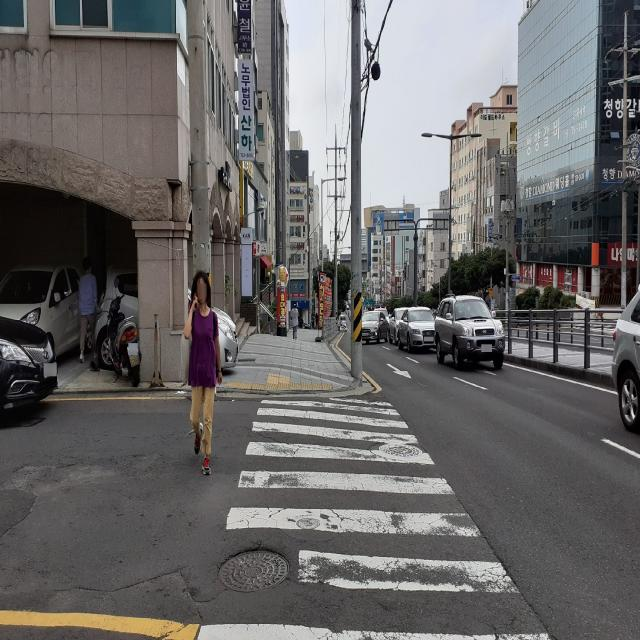횡단보도: (196, 397, 549, 640)
